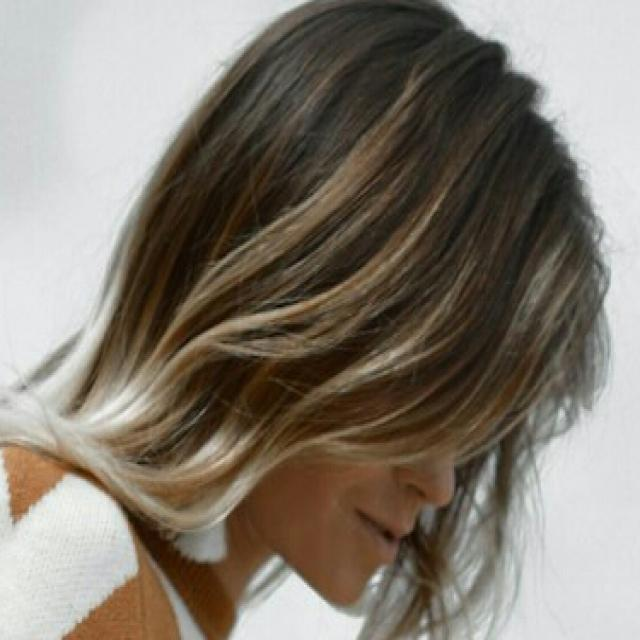front: (320, 330, 474, 597)
